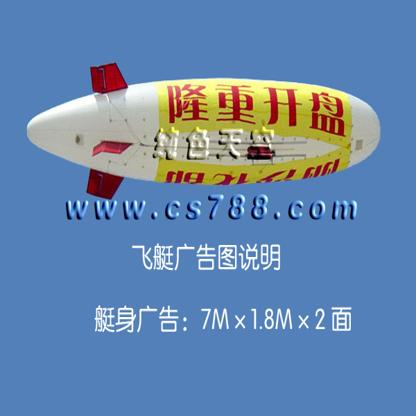Airship: (20, 59, 388, 194)
